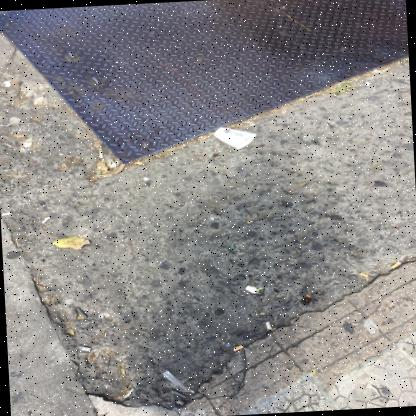Cigarette: (390, 261, 401, 269), (41, 216, 50, 224), (232, 345, 243, 351), (358, 272, 368, 278), (1, 211, 11, 216), (265, 321, 271, 329), (99, 151, 102, 158)
Other plastic bottle: (162, 370, 194, 393), (169, 388, 187, 398)
Paper cup: (214, 127, 256, 149)
Unlabeled litter: (245, 285, 256, 293)
